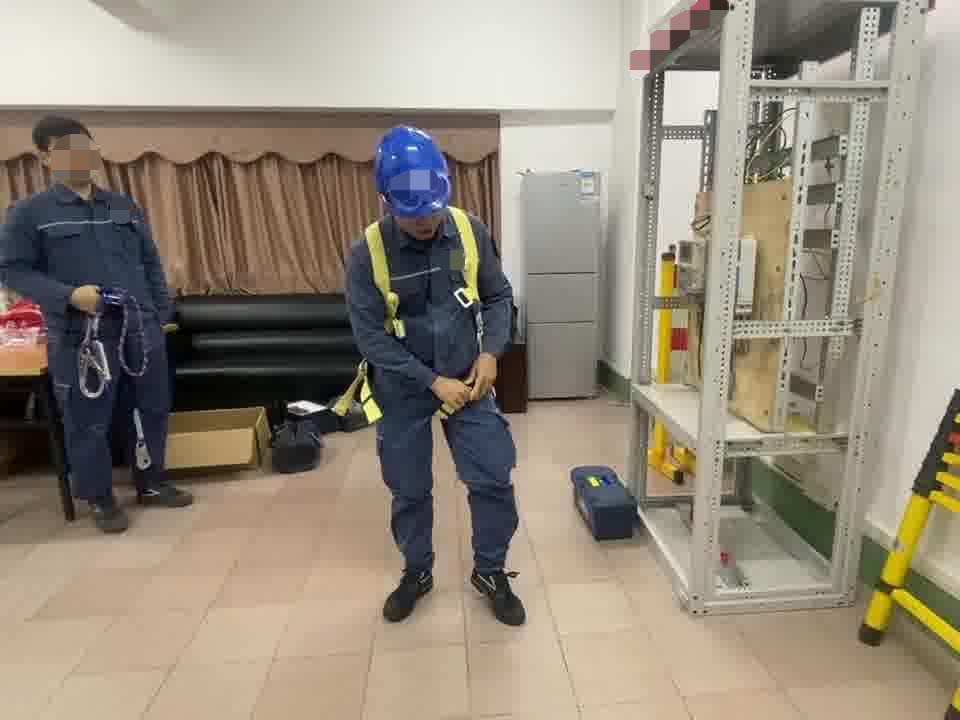halt: (375, 129, 457, 241)
noear: (37, 146, 67, 177)
unhalt: (34, 115, 103, 191)
